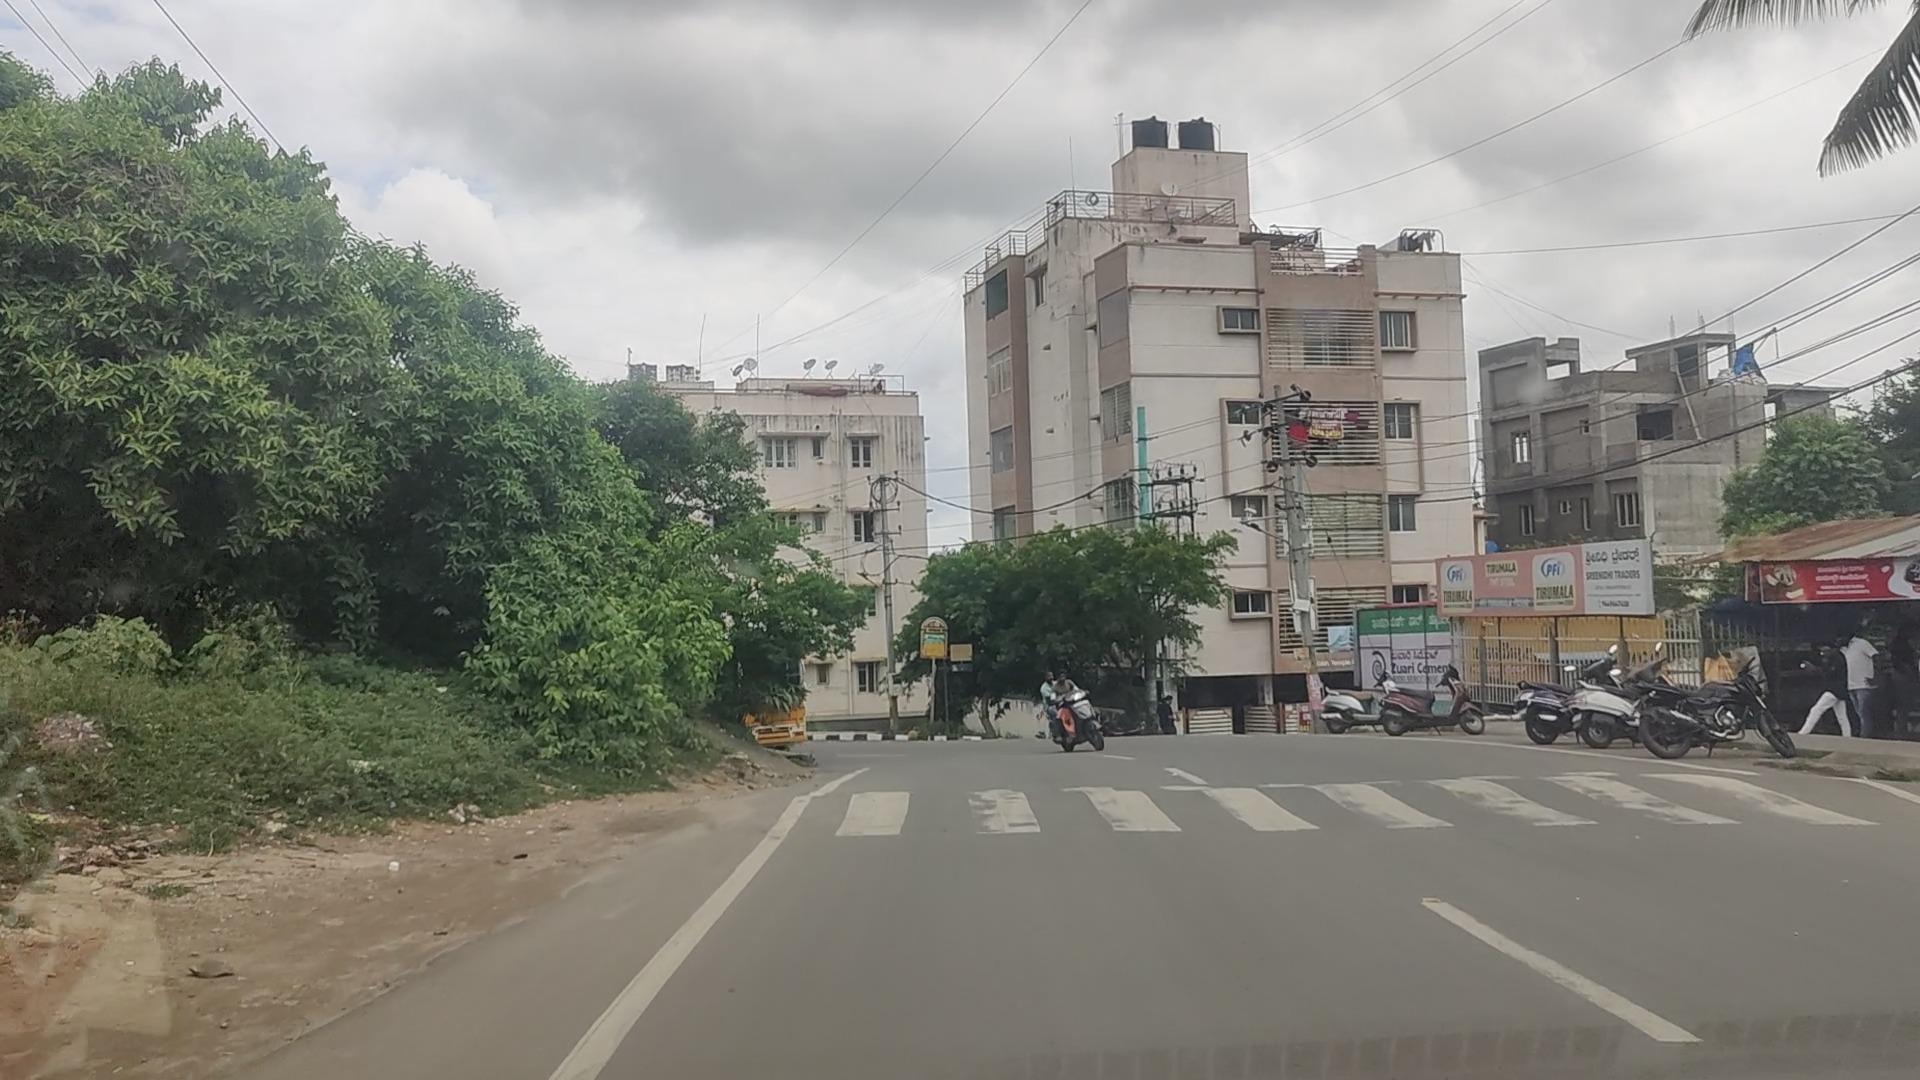SpeedBump: (811, 762, 1779, 836)
